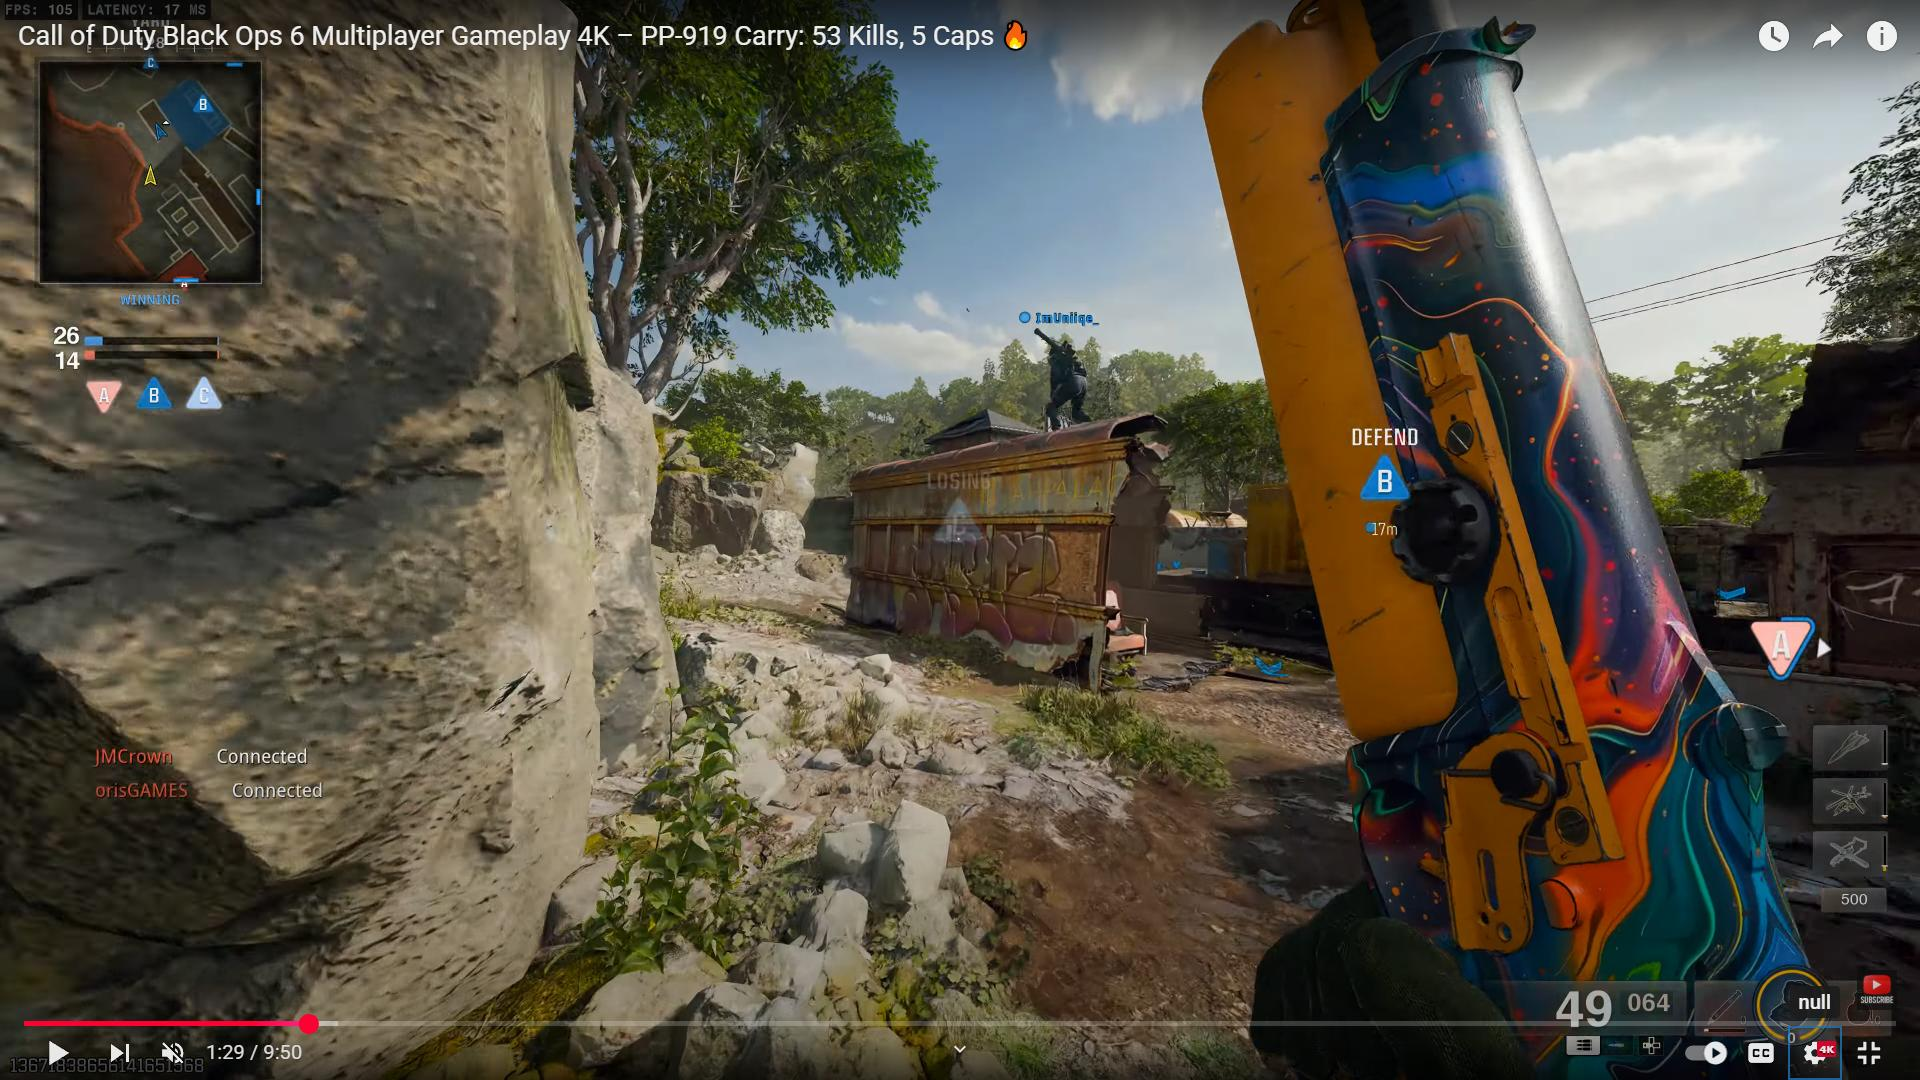Enemy: (1033, 331, 1095, 425)
